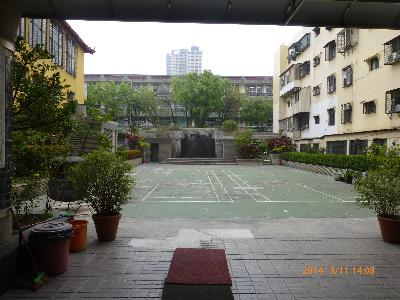bucket: (32, 221, 73, 278), (65, 218, 91, 254)
